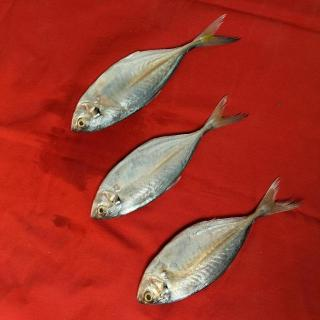Ikan: (68, 29, 302, 313)
